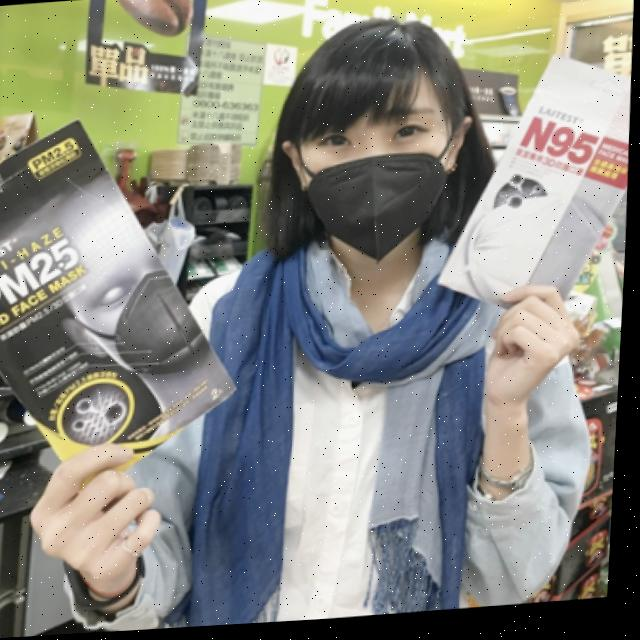Mask: (279, 134, 477, 267)
